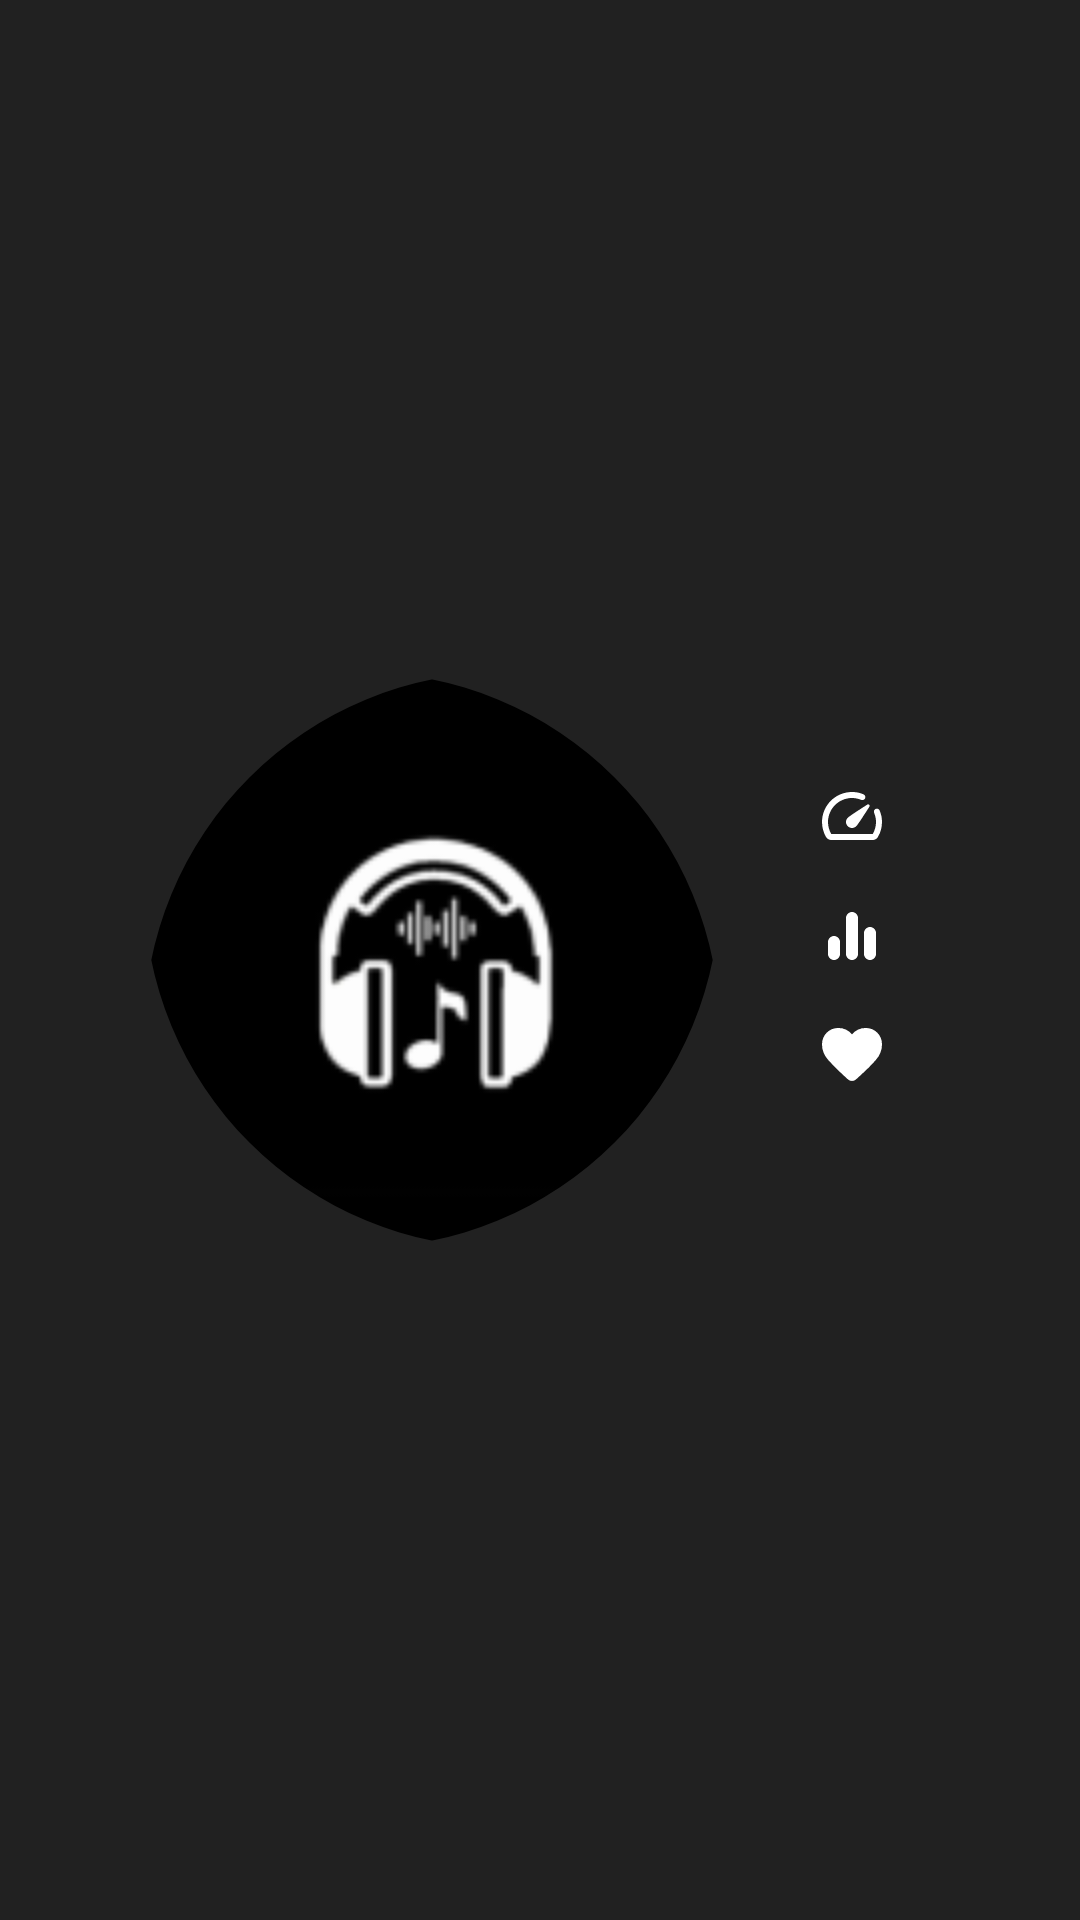

Where icons sit on this 1080*1920 app screen, as (x1, y1, x2, y2):
Equalizer: (828, 912, 876, 960)
Favorite: (822, 1028, 882, 1081)
Playback speed: (822, 792, 882, 840)
